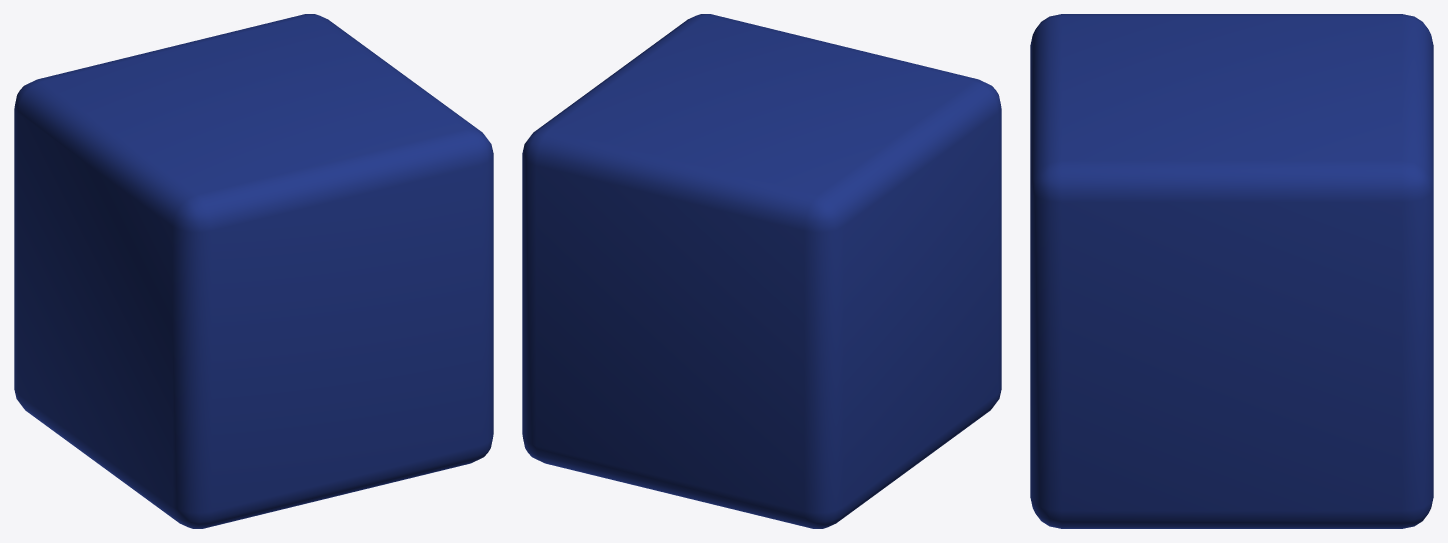
The model's file is mavi.fbx.
3 views of the same model, side by side, from view 1: azimuth 30°, elevation 25°; view 2: azimuth 150°, elevation 25°; view 3: azimuth 270°, elevation 25° (orthographic). The views are drawn at different scales.
Visible parts, largest first — view 1: Cube.012; view 2: Cube.012; view 3: Cube.012.
Boxes of the visible parts, x1=… form: Cube.012: x1=14, y1=14, x2=493, y2=528; Cube.012: x1=522, y1=14, x2=1001, y2=528; Cube.012: x1=1030, y1=14, x2=1433, y2=528.
Size of the model in its own units: 200 by 200 by 200.
